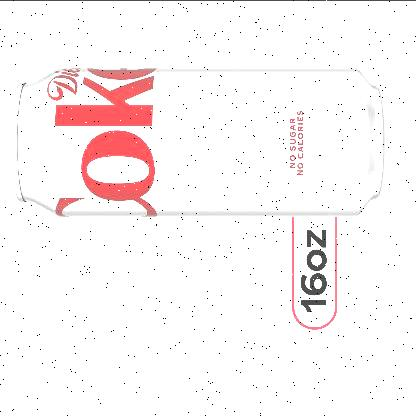Can: (9, 64, 386, 218)
